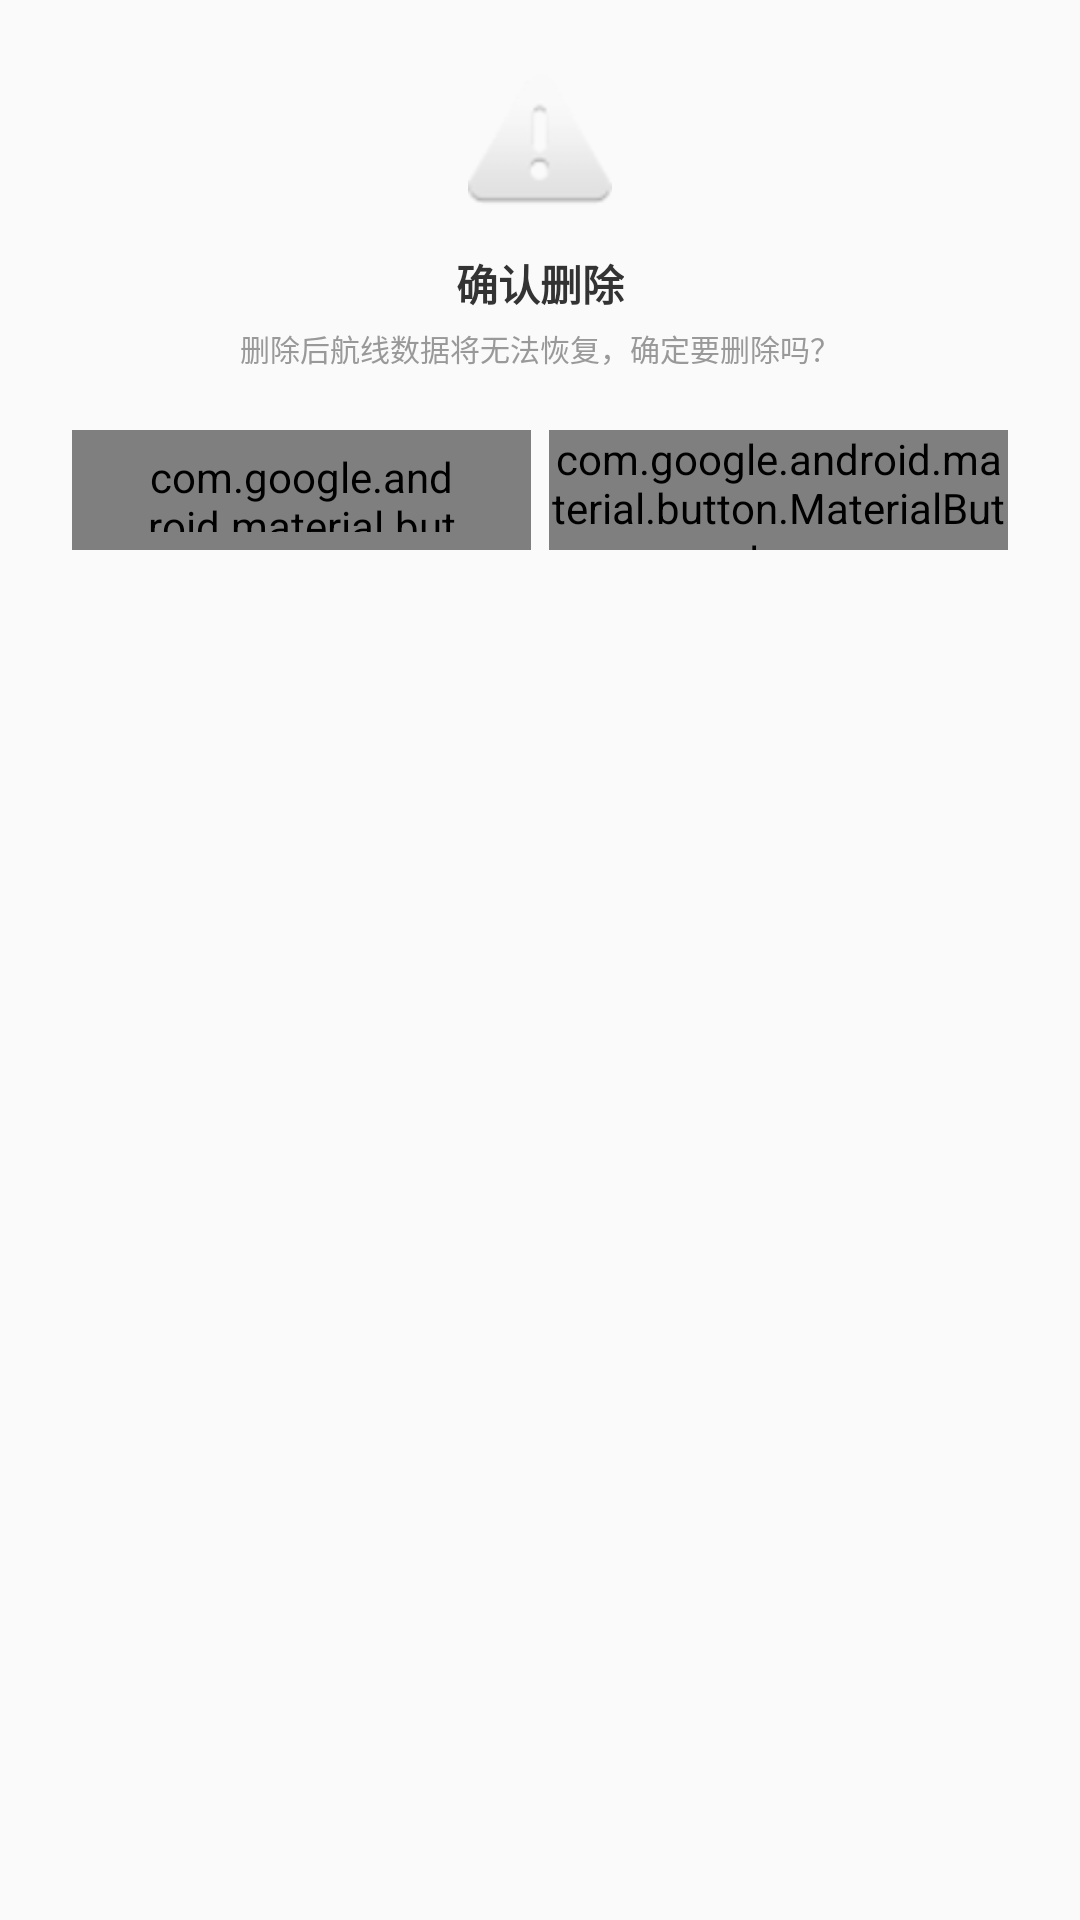

Where icons sit on this 1080px x 1920px app screen, as Rect(x1, y1, x2, y2):
警告: Rect(468, 106, 610, 202)
